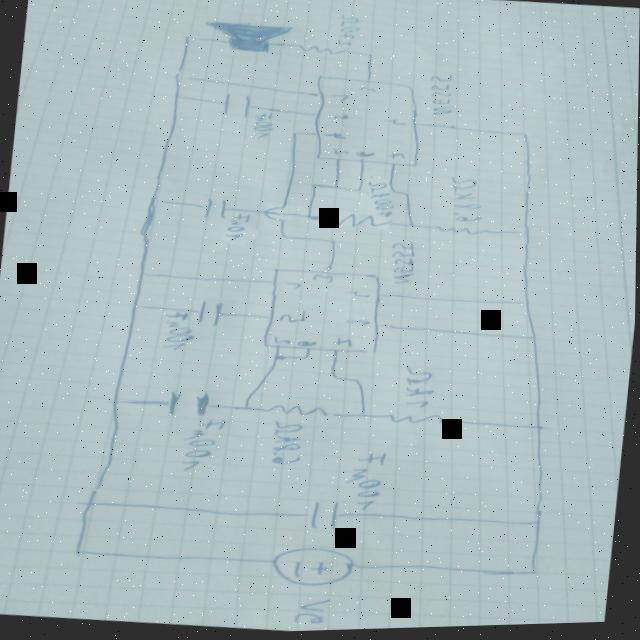capacitor: (166, 390, 212, 421), (308, 501, 342, 535), (221, 92, 253, 121), (196, 299, 224, 330), (202, 198, 229, 222)
crossover: (262, 206, 291, 224)
junction: (167, 69, 198, 86), (100, 395, 129, 412), (74, 494, 101, 512), (143, 194, 170, 209), (509, 229, 534, 244), (67, 544, 90, 560), (232, 401, 257, 415), (166, 92, 191, 104), (128, 300, 149, 313), (285, 130, 306, 142), (179, 33, 200, 45), (134, 268, 153, 280), (275, 232, 295, 243), (402, 221, 420, 233), (268, 354, 287, 365), (516, 300, 534, 311), (352, 411, 371, 421), (515, 132, 533, 142), (322, 238, 340, 248), (359, 52, 377, 62), (529, 426, 546, 436), (525, 571, 543, 580), (528, 521, 545, 530), (328, 375, 345, 384), (523, 336, 540, 345), (306, 182, 321, 192), (328, 184, 342, 194), (301, 214, 315, 223), (348, 379, 365, 386), (351, 187, 363, 196), (299, 356, 313, 363), (388, 191, 402, 198), (400, 192, 412, 200)
resistor: (325, 212, 396, 234), (265, 403, 330, 423), (387, 412, 448, 430), (294, 43, 349, 59), (432, 226, 490, 240)
source: (270, 543, 361, 595)
text: (342, 449, 392, 514), (179, 418, 228, 476), (445, 177, 487, 227), (268, 420, 307, 468), (400, 364, 437, 412), (157, 310, 197, 354), (386, 242, 419, 288), (291, 596, 334, 629), (362, 183, 399, 221), (428, 75, 459, 120), (335, 15, 362, 50), (223, 214, 251, 243), (251, 112, 274, 142), (276, 309, 308, 327), (342, 290, 372, 301), (331, 338, 356, 351), (381, 119, 410, 130), (344, 319, 373, 329), (310, 275, 336, 286), (321, 133, 348, 143), (272, 336, 294, 348), (384, 152, 407, 163), (296, 340, 319, 351), (327, 94, 349, 105), (352, 152, 378, 161), (354, 87, 377, 97), (283, 282, 304, 292), (331, 148, 350, 159), (329, 114, 351, 123)
